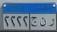2: (10, 13, 17, 27), (22, 14, 29, 27), (4, 13, 10, 27), (16, 14, 22, 27)
ج: (30, 15, 38, 27)
ر: (48, 17, 55, 28)
ن: (37, 16, 47, 29)
